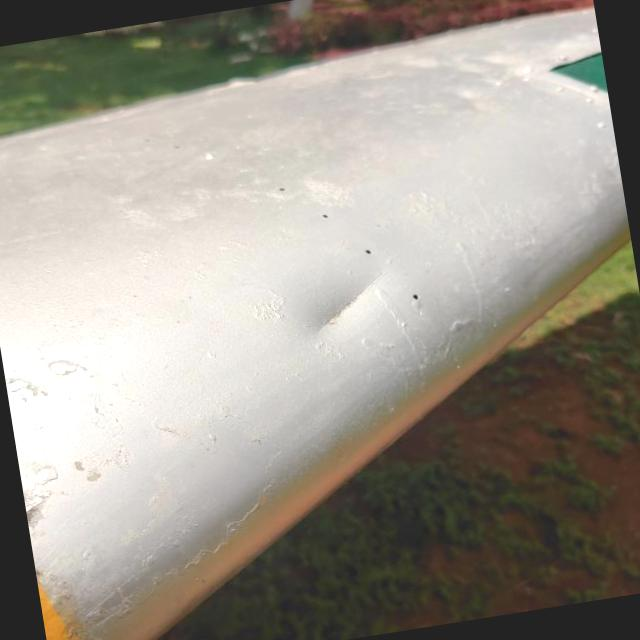dent: (272, 248, 404, 354)
